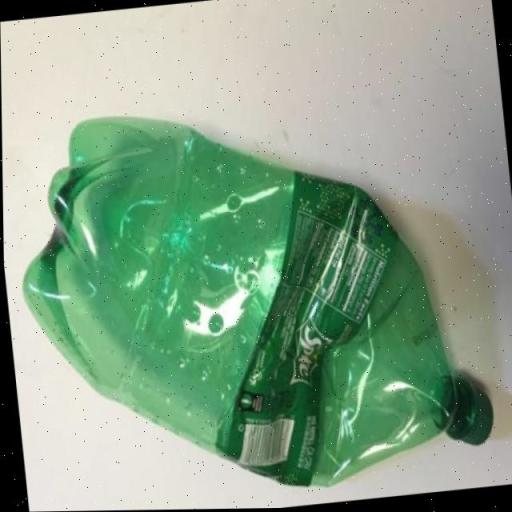plastic: (23, 117, 492, 485)
